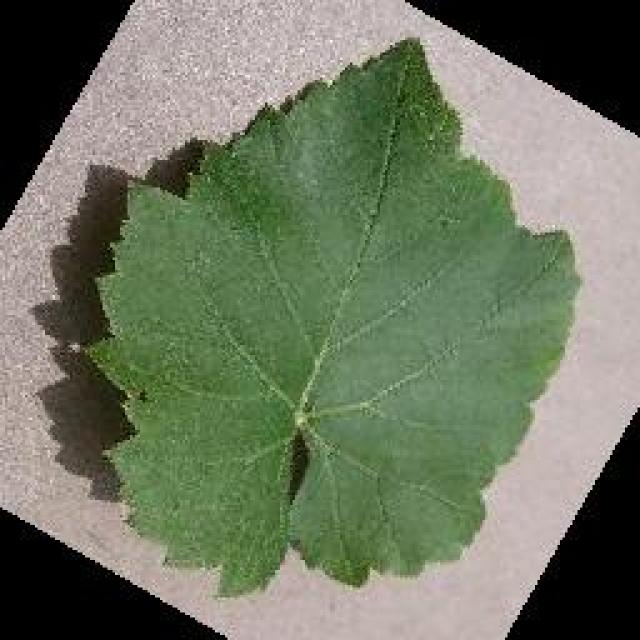Grape___healthy: (76, 38, 586, 603)
